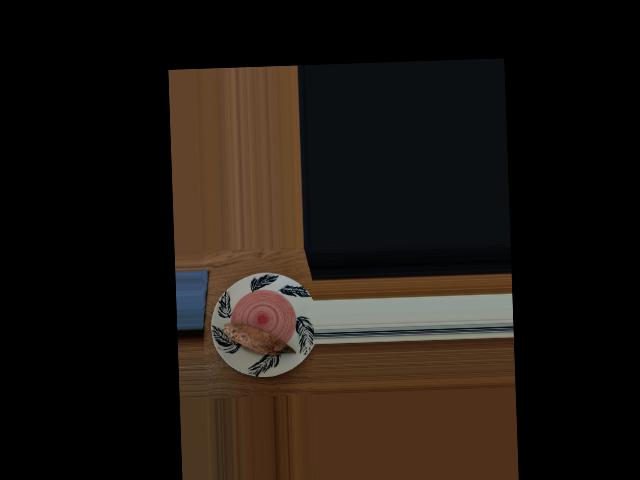sweet_potato: (227, 318, 288, 357)
